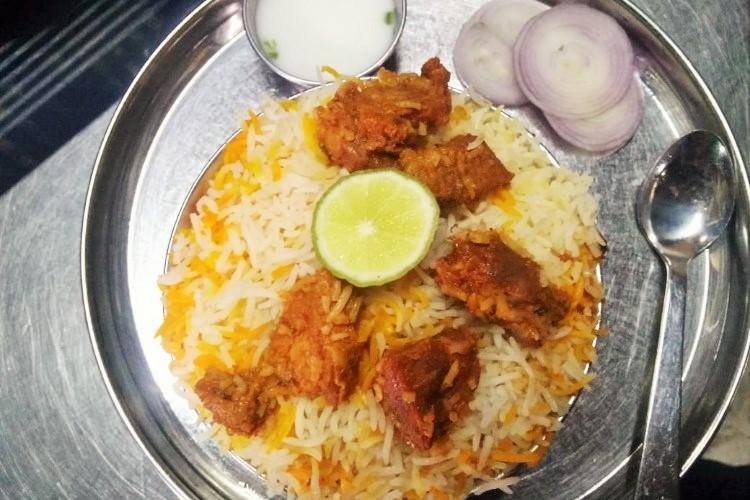Biryani: (152, 56, 612, 500)
